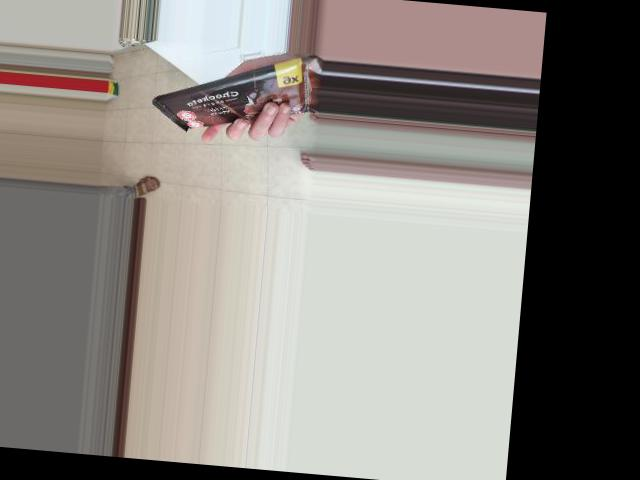chocolate: (153, 52, 323, 139)
